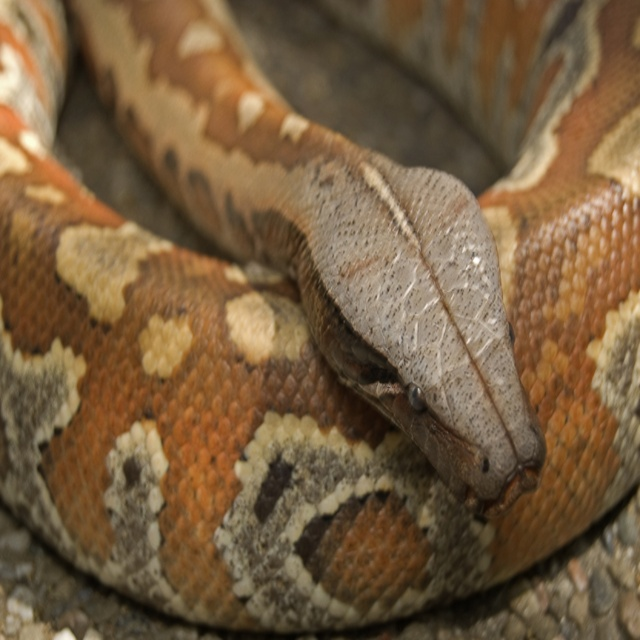Snake: (0, 0, 640, 633)
